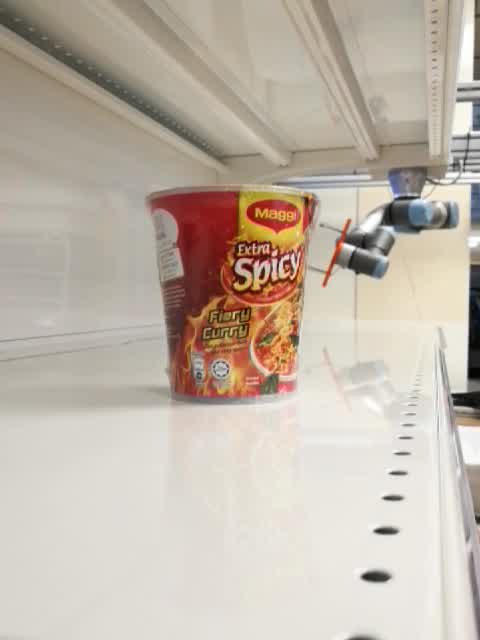maggi: (143, 184, 320, 405)
